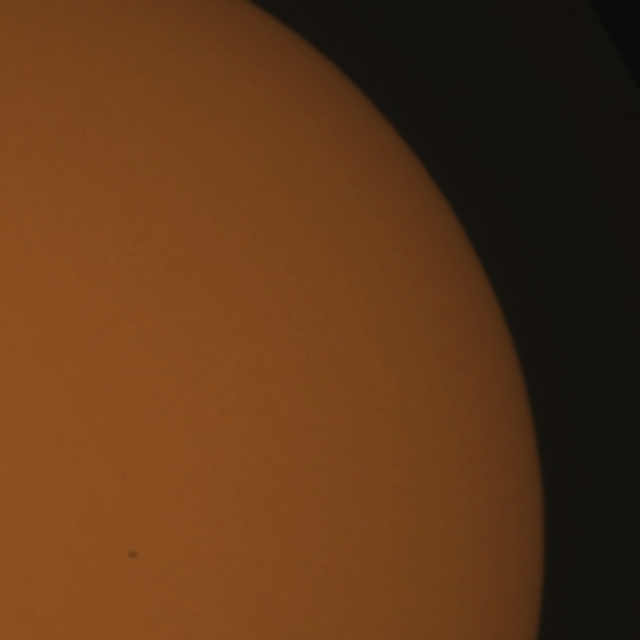sunspot: (125, 548, 141, 562), (119, 472, 129, 482)
